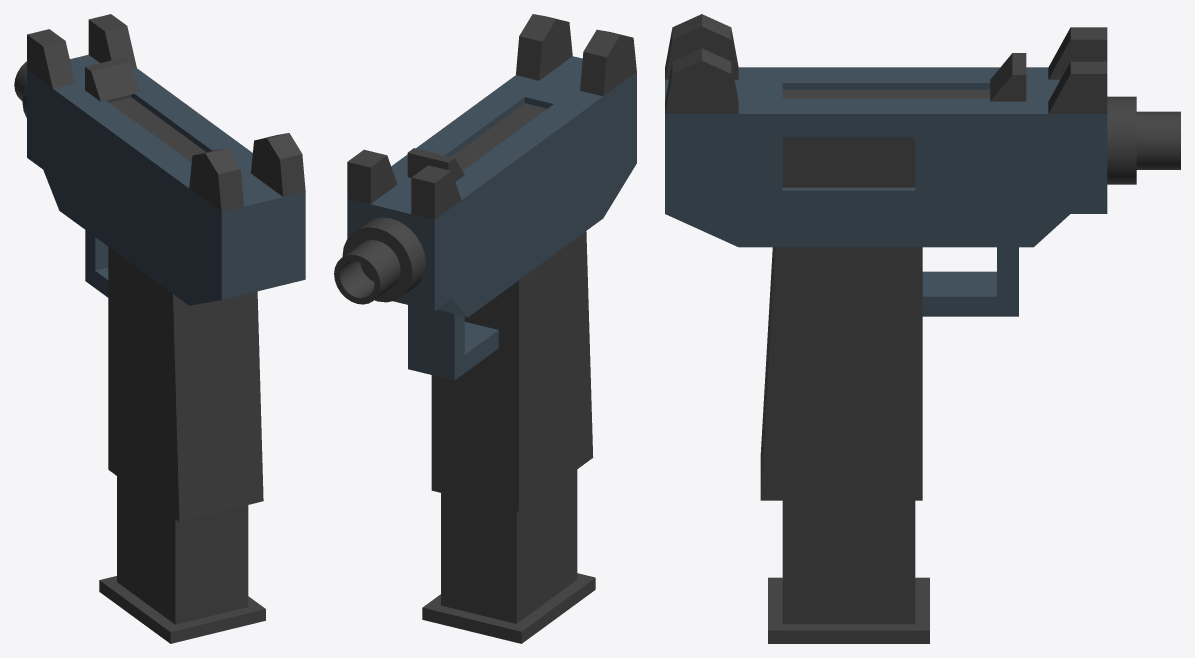
File: uzi.obj
3 views of the same model, side by side, from view 1: azimuth 30°, elevation 25°; view 2: azimuth 150°, elevation 25°; view 3: azimuth 270°, elevation 25° (orthographic). The views are drawn at different scales.
Parts seen in each view (by area): view 1: Group; view 2: Group; view 3: Group.
Part boxes in pixels (x1=…): Group: x1=14, y1=14, x2=305, y2=643; Group: x1=334, y1=14, x2=636, y2=643; Group: x1=665, y1=14, x2=1180, y2=643.
Bounding box in the file's own units: 0.0651 × 0.333 × 0.2683.
